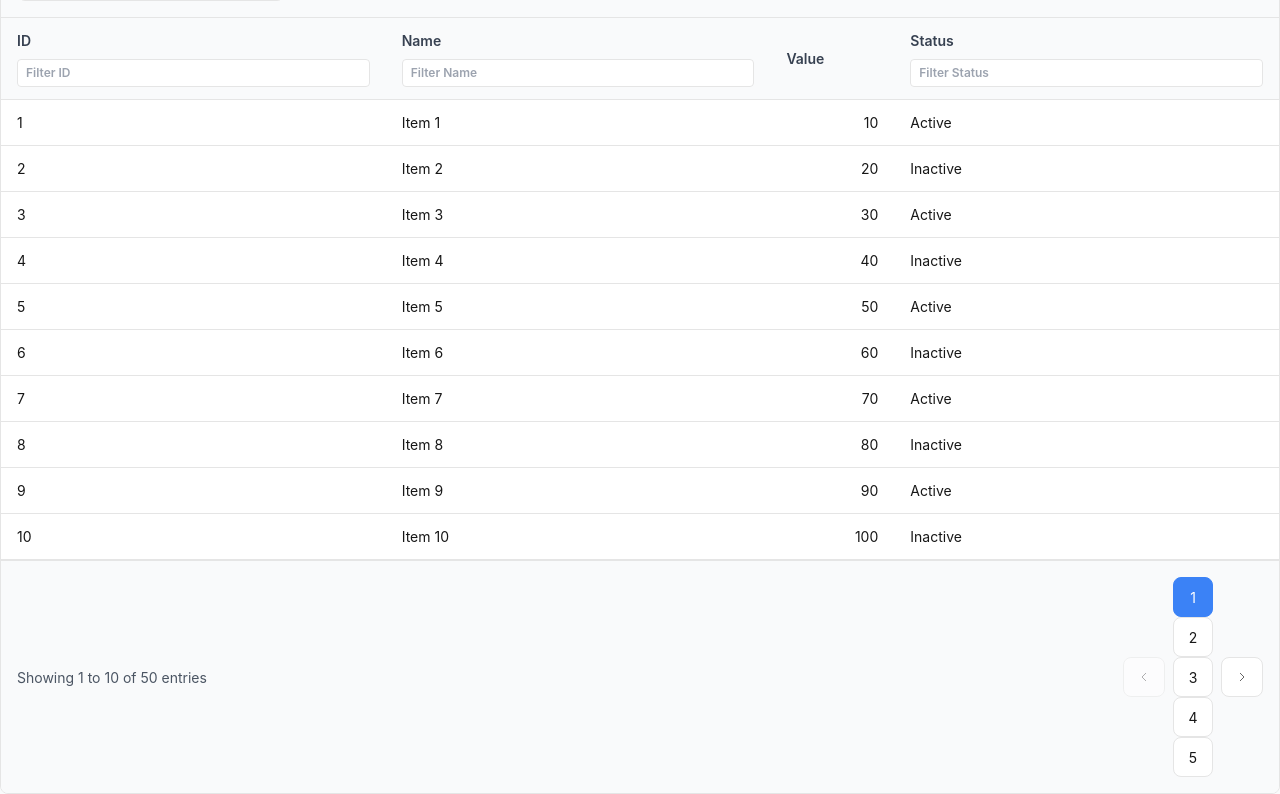
Test: AdvancedDataTable Component › handles pagination correctly
(page scrolled)
Expected: the text "Showing 1 to 10 of 50 entries" is shown, [17,666,207,688]
// Test page navigation
Click the button named "Next page" at (1242, 677), box [1221,657,1263,697]
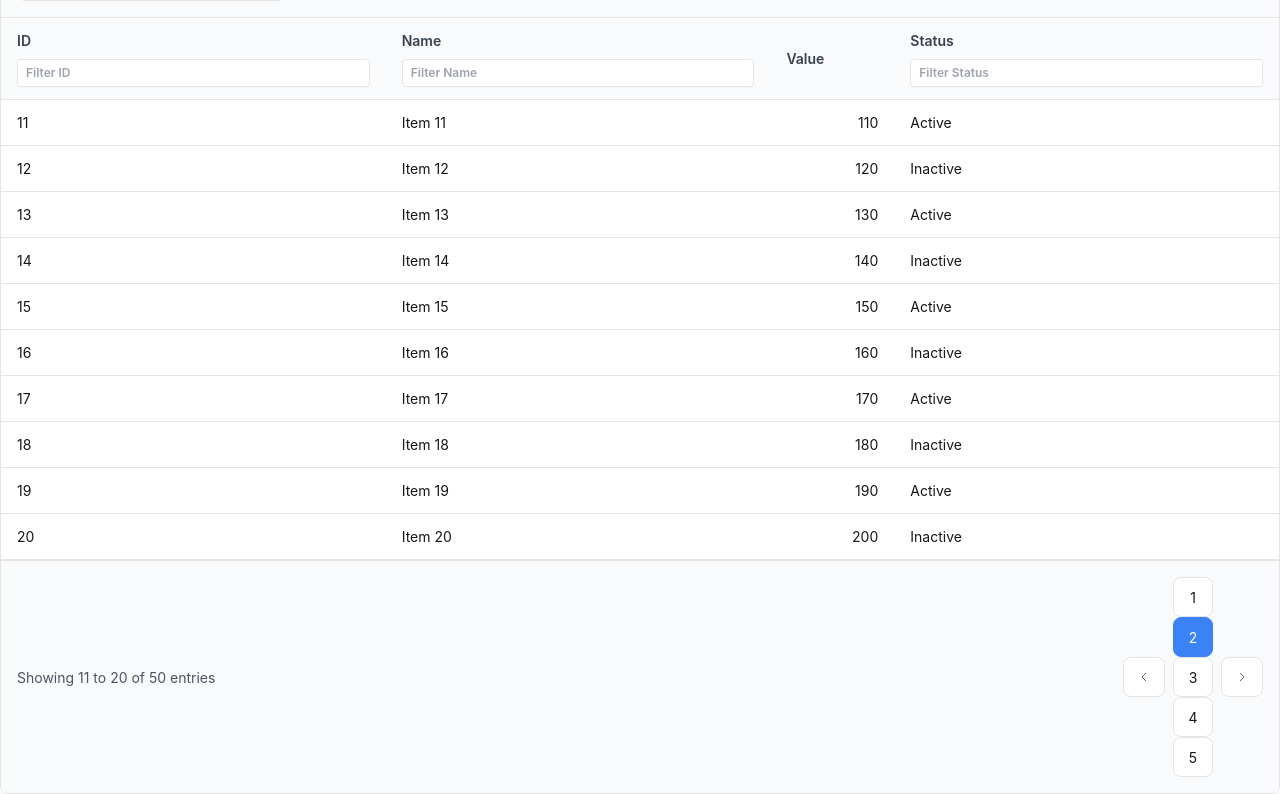
Expected: the text "Showing 11 to 20 of 50 entries" is shown, [17,666,215,688]
